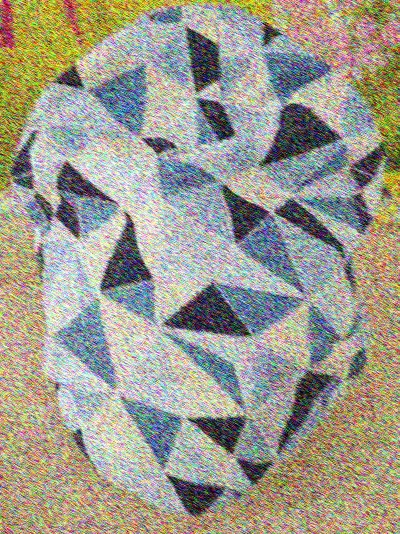Hat: (11, 8, 376, 500)
